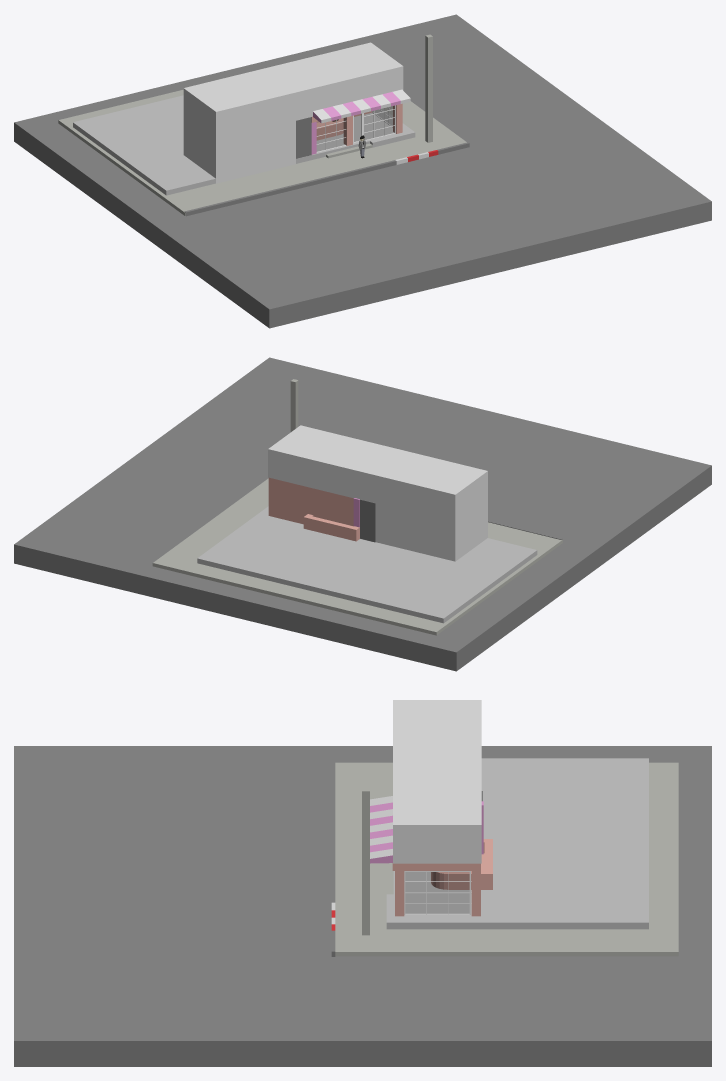
Rendered from big2.glb.
3 views of the same model, one above another, from view 1: azimuth 30°, elevation 25°; view 2: azimuth 150°, elevation 25°; view 3: azimuth 270°, elevation 25° (orthographic). The views are drawn at different scales.
Parts seen in each view (by area): view 1: Cube, Cube.028, Cube.003, Cube.001, Cube.030, Cube.038, Cube.039, Cube.036, Cube.034, Cube.037, Cube.007; view 2: Cube, Cube.003, Cube.028, Cube.001, Cube.007, Cube.004, Cube.037; view 3: Cube, Cube.003, Cube.001, Cube.028, Cube.030, Cube.007, Cube.039, Cube.004, Cube.036, Cube.038, Cube.034.
Boxes of the visible parts, x1,y1,x2,y2 form: Cube: (14, 14, 711, 328); Cube.028: (183, 42, 403, 183); Cube.003: (73, 95, 415, 195); Cube.001: (58, 89, 466, 215); Cube.030: (317, 106, 394, 151); Cube.038: (184, 142, 469, 216); Cube.039: (313, 89, 410, 123); Cube.036: (425, 34, 432, 142); Cube.034: (316, 105, 395, 152); Cube.037: (296, 117, 311, 158); Cube.007: (311, 103, 402, 145); Cube: (14, 357, 711, 671); Cube.003: (197, 506, 537, 623); Cube.028: (268, 425, 487, 561); Cube.001: (152, 478, 562, 635); Cube.007: (268, 477, 353, 526); Cube.004: (303, 514, 359, 541); Cube.037: (360, 499, 375, 542); Cube: (14, 746, 711, 1066); Cube.003: (386, 758, 648, 929); Cube.001: (335, 762, 678, 956); Cube.028: (393, 700, 481, 863); Cube.030: (405, 872, 469, 913); Cube.007: (392, 863, 480, 916); Cube.039: (370, 796, 392, 863); Cube.004: (431, 839, 492, 889); Cube.036: (362, 788, 369, 935); Cube.038: (331, 762, 335, 956); Cube.034: (404, 871, 471, 914).
Size of the model in its own units: 62.46 by 17.23 by 62.46.
